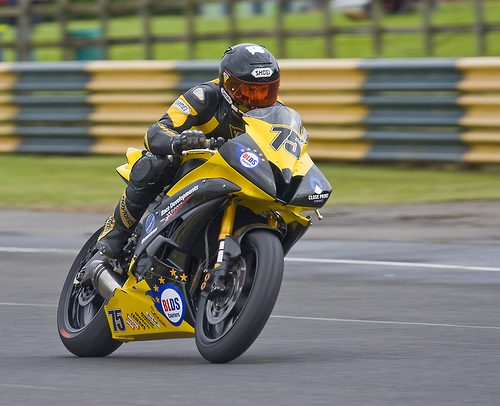helmet: (221, 48, 286, 94)
